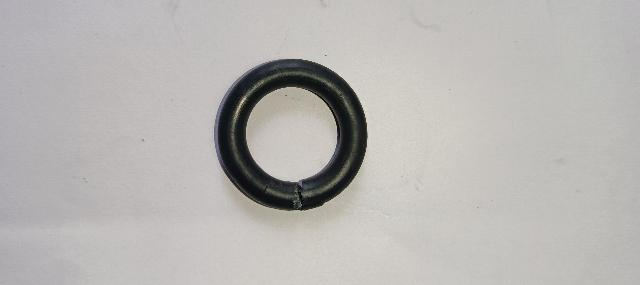crack: (285, 176, 317, 215)
